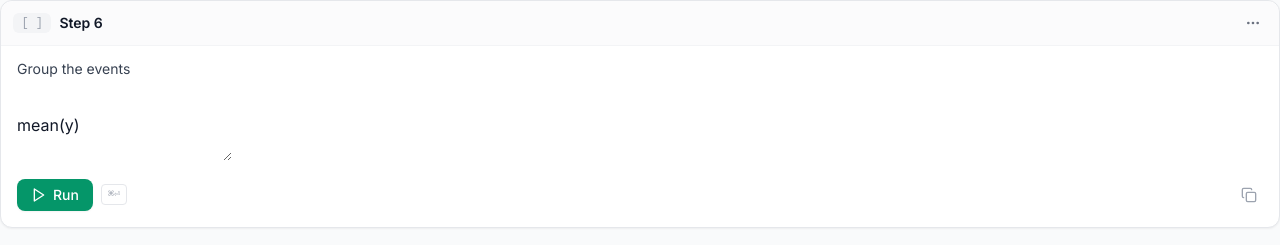
Test: NotebookCell overflow menu › enables Reset once the student has changed something
The width and height of the screenshot is (1280, 245).
Click the button named "Cell actions": click(1253, 23) [1239, 9, 1267, 37]
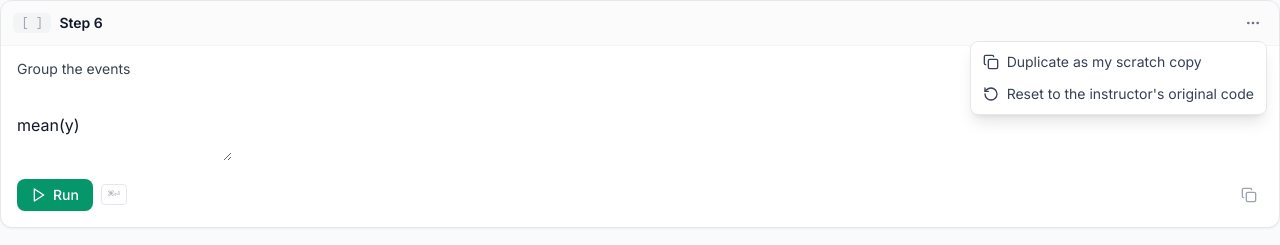
Check: the menu item "Reset to the instructor's original code" is enabled, box [971, 78, 1266, 110]
